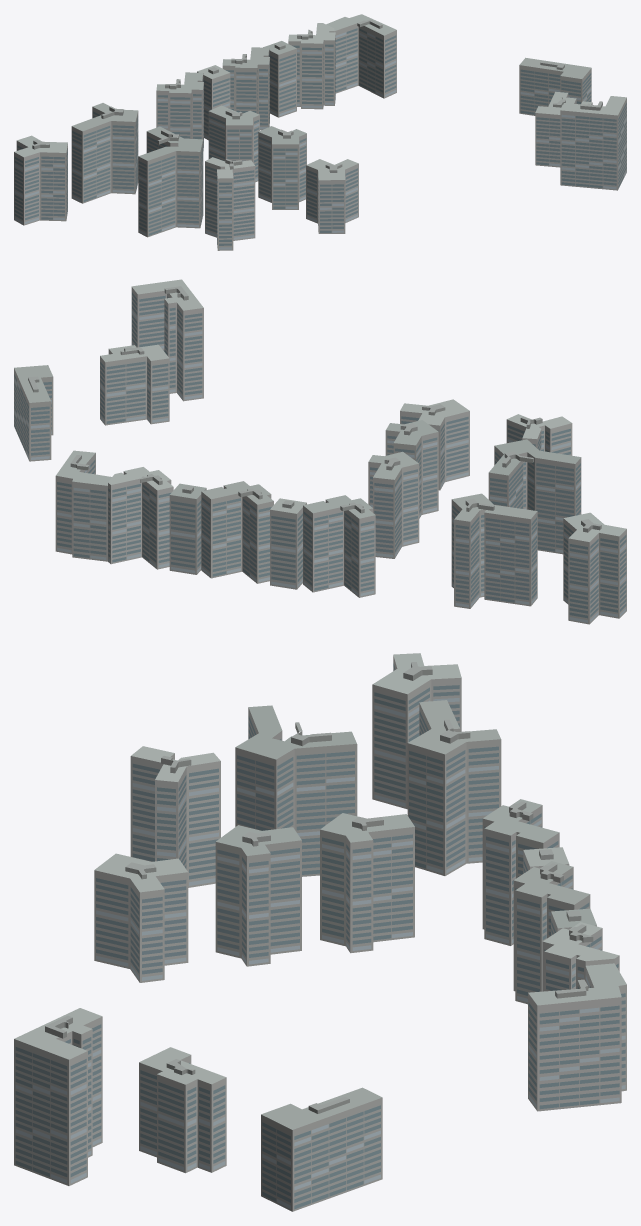
Rendered from apt-a10027851.glb.
3 renders of one model, top to bottom at view 1: azimuth 30°, elevation 25°; view 2: azimuth 150°, elevation 25°; view 3: azimuth 270°, elevation 25°, orthographic. The views are drawn at different scales.
Parts seen in each view (by area): view 1: apt-a10027851; view 2: apt-a10027851; view 3: apt-a10027851.
Boxes of the visible parts, x1,y1,x2,y2 form: apt-a10027851: (14,14,626,250); apt-a10027851: (14,279,626,624); apt-a10027851: (14,653,626,1211).
Size of the model in its own units: 411 by 58 by 240.
